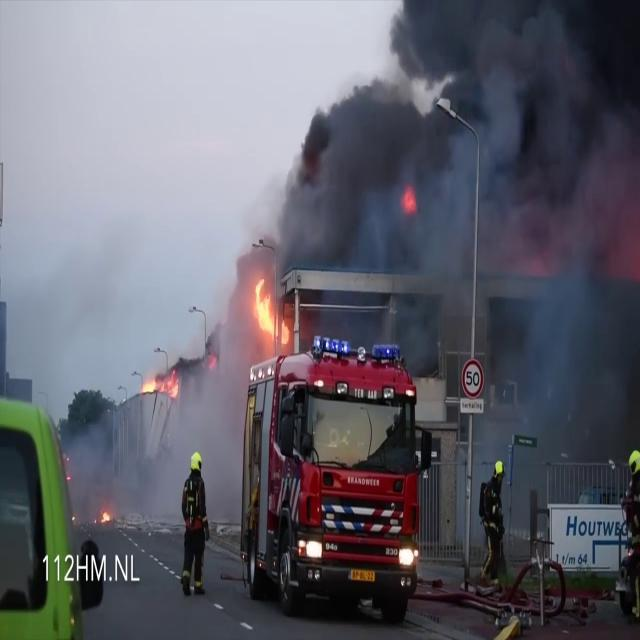Fire: (246, 274, 292, 346), (137, 369, 178, 396)
Smoke: (252, 1, 640, 296), (69, 339, 248, 536)
